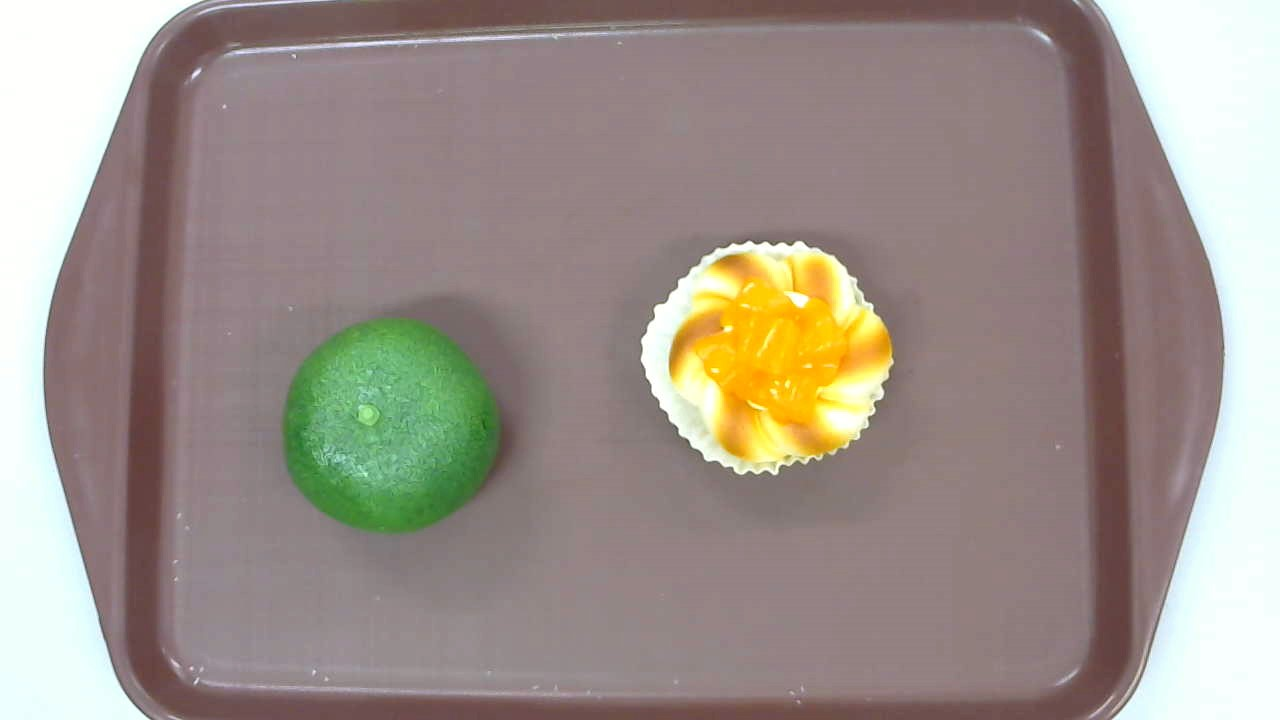green orange: (281, 316, 501, 532)
mango tart: (640, 241, 894, 477)
